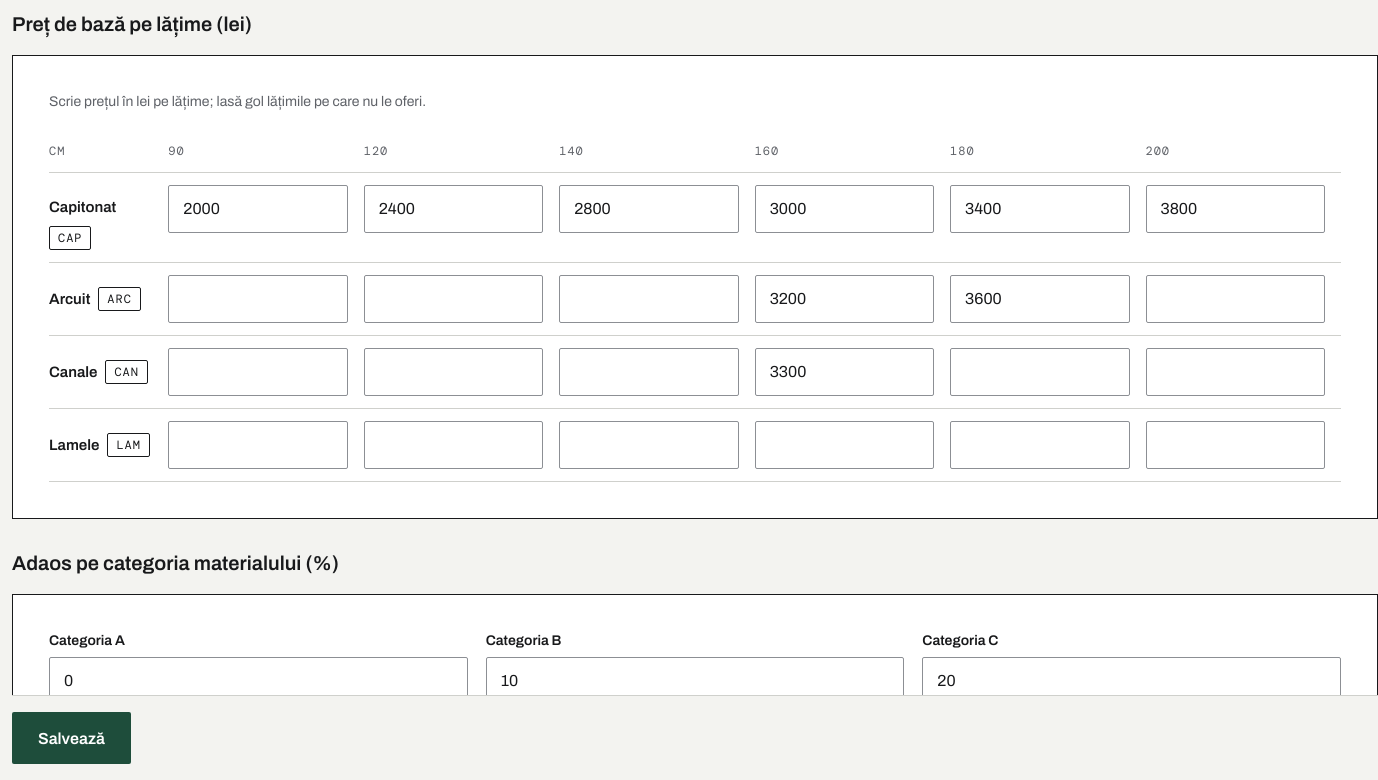
Test: PricingForm › shows the server's message and field errors, and focuses the first invalid field in form order
Click the button "Salvează": (72, 738) [12, 712, 131, 764]
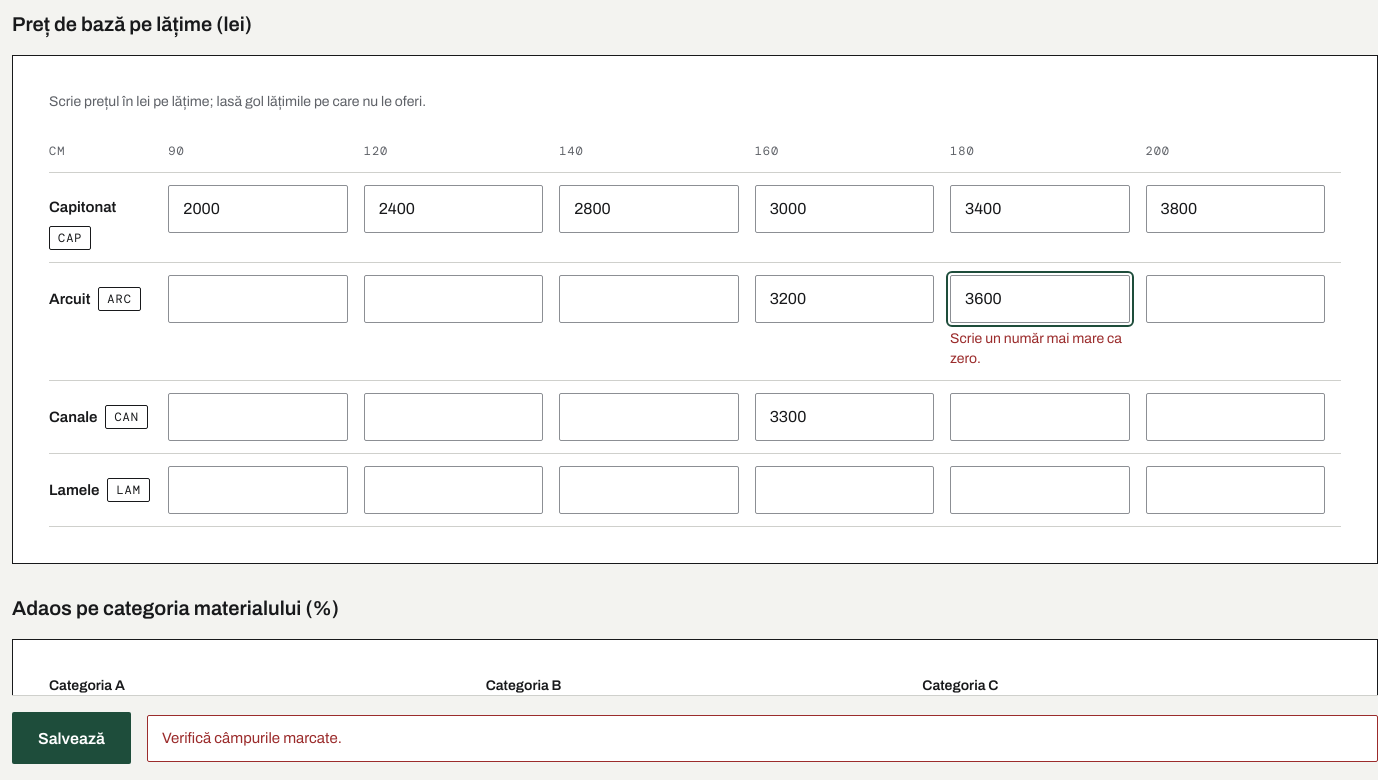
Check: the message reads "Verifică câmpurile marcate.", box [162, 730, 342, 746]
